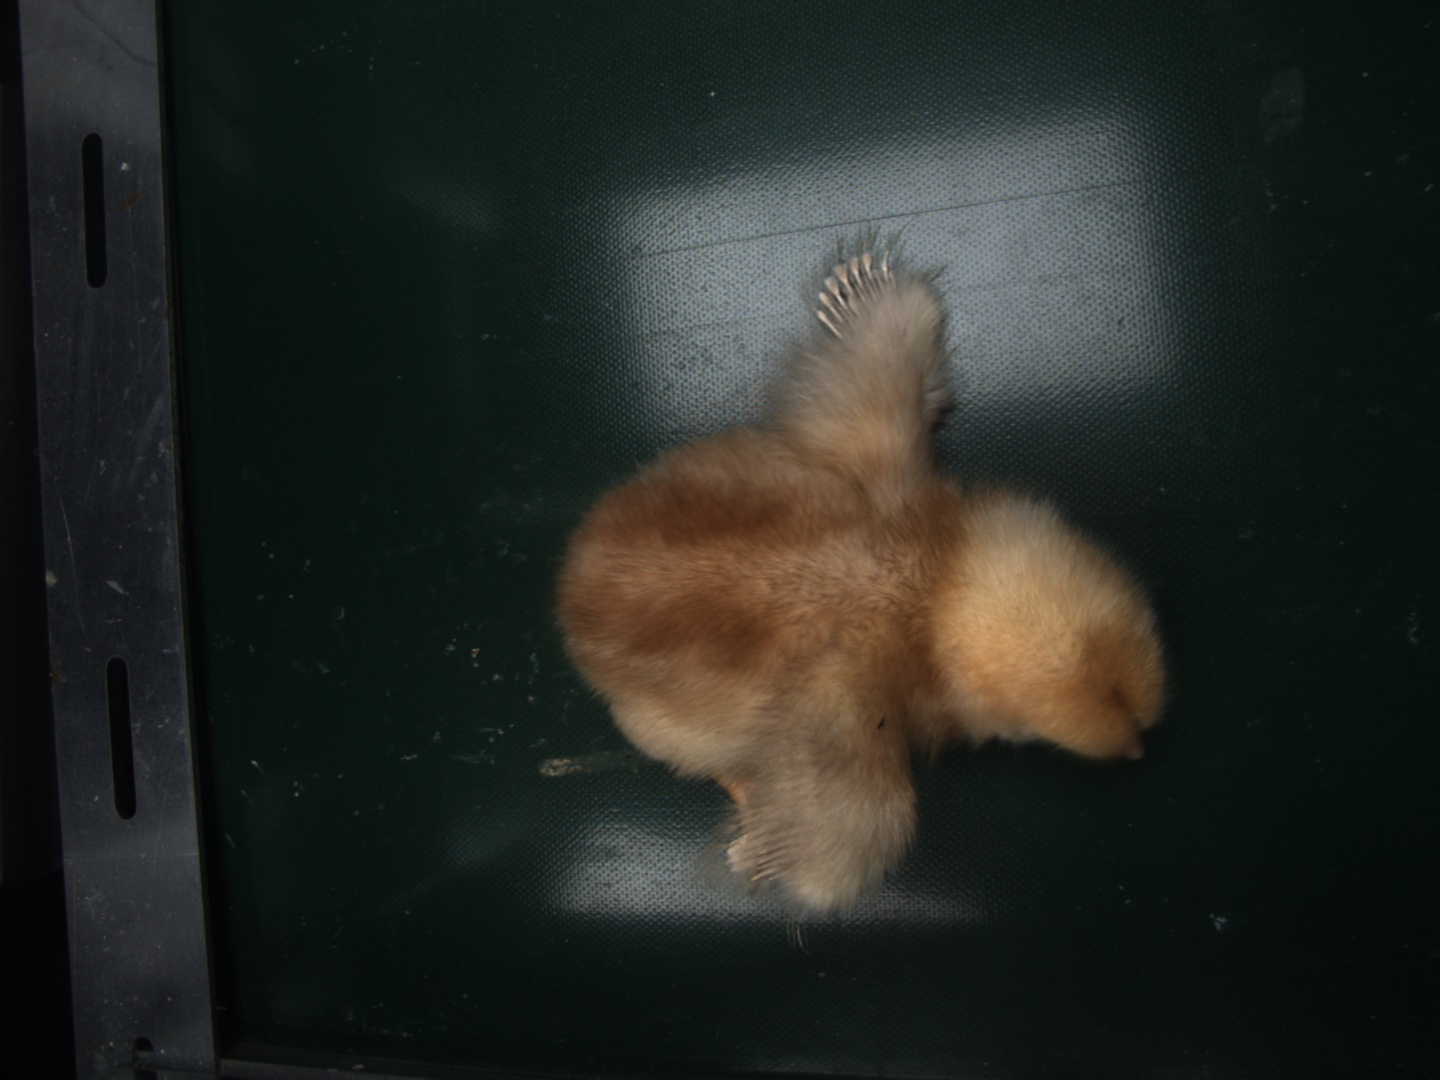female: (812, 254, 901, 336)
